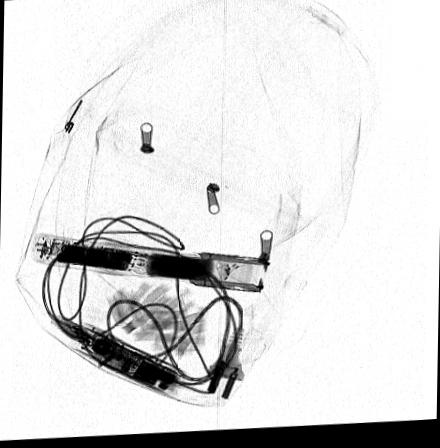Baton: (29, 233, 268, 297)
